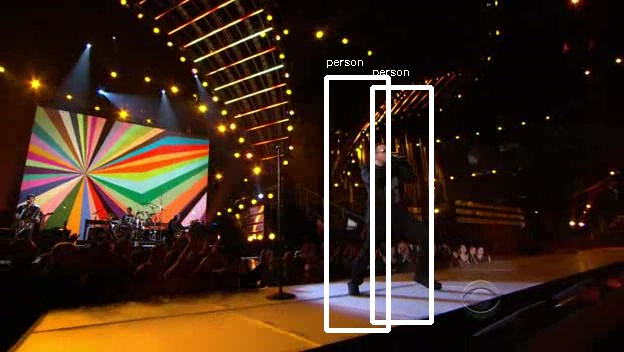person: (359, 139, 419, 248), (356, 139, 416, 248), (362, 139, 422, 248), (359, 136, 419, 245), (359, 142, 419, 251)
target_negative: (104, 93, 611, 210), (536, 63, 593, 324), (207, 282, 563, 311), (441, 13, 479, 180), (580, 14, 602, 255), (604, 258, 618, 334)
